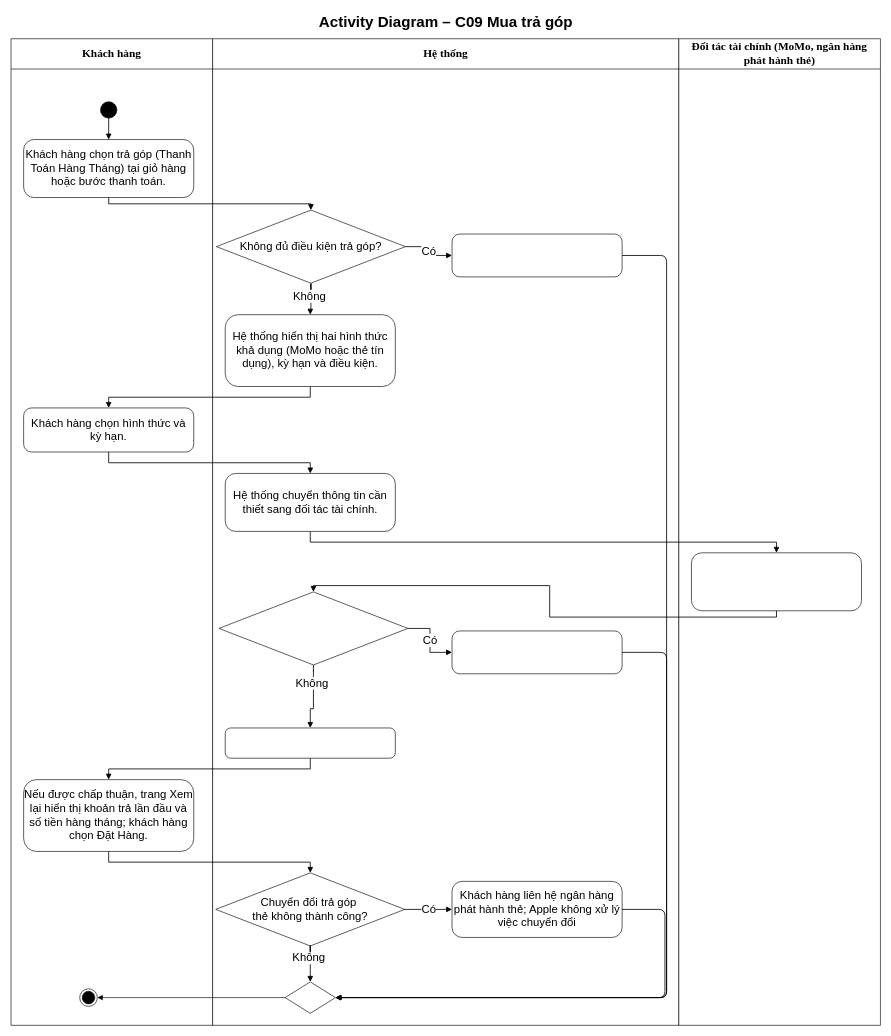
Some shapes in this 891 by 1036 pixel diagram are drawn without their labels. Here are the shapes that lost their labels. From the top down, the centre of each, then its label:
At (x=536, y=255): "Không hiển thị lựa chọn trả góp".
At (x=776, y=581): "Đối tác (MoMo hoặc ngân hàng phát hành thẻ) xét duyệt giao dịch.".
At (x=313, y=628): "Đối tác hoặc ngân hàng từ chối?".
At (x=536, y=652): "Khách hàng chọn phương thức thanh toán khác".
At (x=310, y=742): "Hệ thống nhận kết quả.".
